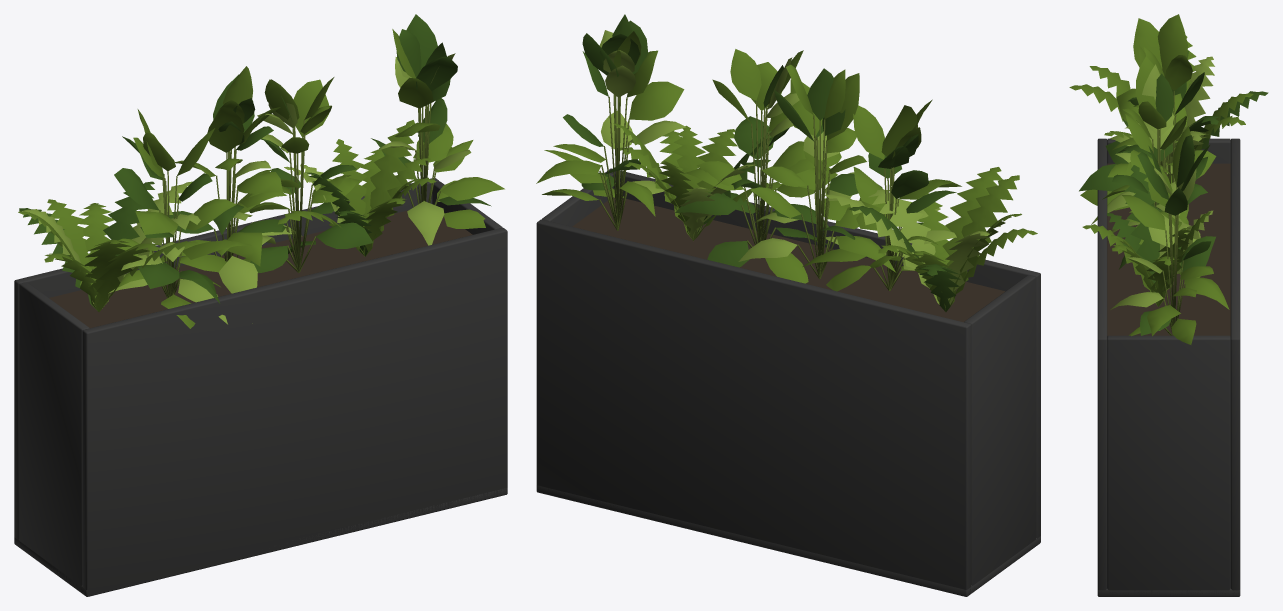
The model's file is greenery.planter-box-medium.glb.
3 renders of one model, left to right at view 1: azimuth 30°, elevation 25°; view 2: azimuth 150°, elevation 25°; view 3: azimuth 270°, elevation 25°, orthographic. The views are drawn at different scales.
Visible parts, largest first — view 1: greenery.planter-box-medium.001; view 2: greenery.planter-box-medium.001; view 3: greenery.planter-box-medium.001.
Part boxes in pixels (left/top/right/bottom): greenery.planter-box-medium.001: left=14, top=14, right=507, bottom=596; greenery.planter-box-medium.001: left=536, top=14, right=1040, bottom=596; greenery.planter-box-medium.001: left=1069, top=14, right=1268, bottom=596.
Size of the model in its own units: 1.12 by 1.02 by 0.42.
